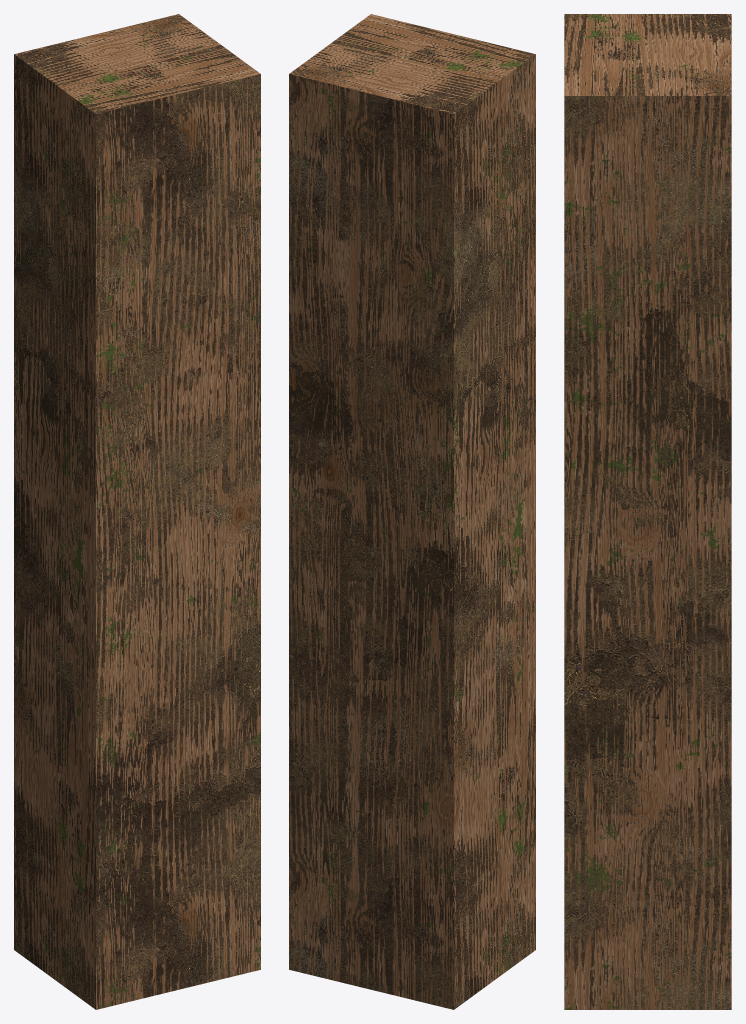
The model's file is fencepole.fbx.
The picture shows the model from 3 angles, left to right: view 1: azimuth 30°, elevation 25°; view 2: azimuth 150°, elevation 25°; view 3: azimuth 270°, elevation 25°; orthographic projection. The views are drawn at different scales.
Visible parts, largest first — view 1: pCube1; view 2: pCube1; view 3: pCube1.
Part boxes in pixels (bbox=[...]): pCube1: bbox=[14, 14, 260, 1009]; pCube1: bbox=[289, 14, 535, 1009]; pCube1: bbox=[564, 14, 731, 1009].
Size of the model in its own units: 21.86 by 113 by 18.82.
1 material, 1 textured.
